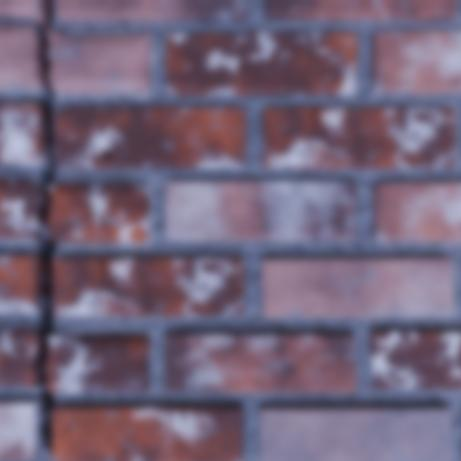brick: (166, 33, 355, 95), (55, 107, 244, 168), (263, 108, 454, 168), (262, 259, 452, 316), (166, 182, 355, 239), (165, 334, 354, 391), (54, 258, 243, 315), (53, 406, 242, 460), (260, 407, 450, 460), (372, 31, 460, 93), (374, 182, 460, 241), (370, 332, 460, 388), (56, 0, 245, 21), (266, 0, 455, 20), (0, 104, 42, 163), (0, 256, 40, 312), (0, 401, 37, 457), (5, 432, 37, 459), (0, 0, 42, 17), (53, 407, 74, 433)
broken_brick: (47, 29, 151, 94), (49, 183, 149, 243), (47, 334, 150, 392), (0, 25, 41, 89), (0, 179, 38, 239), (0, 328, 37, 387)
crack: (0, 0, 88, 460), (87, 257, 122, 309), (298, 107, 333, 158), (89, 107, 133, 116)
